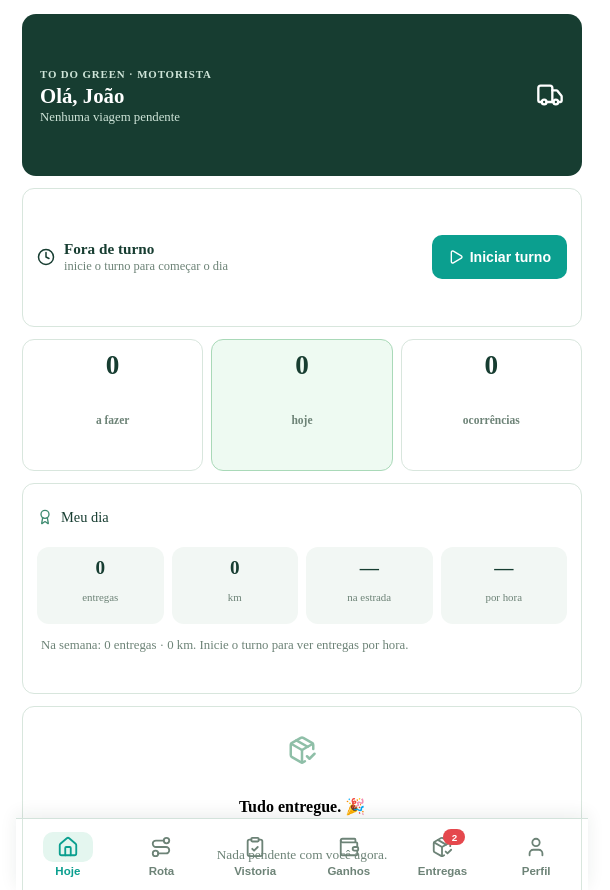
app do motorista — score › no perfil, mostra a nota derivada das entregas
expect the heading "Olá, João" is shown: met, box [40,84,124,108]
Click the button "Perfil": (536, 854) [490,825,582,884]
(page scrolled)
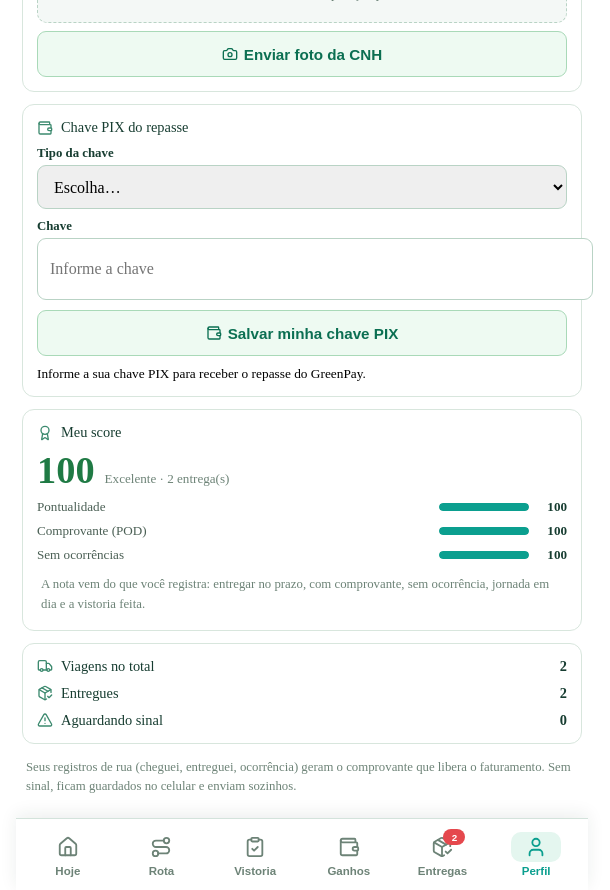
expect the text "Meu score" is shown: met, box [61,424,121,440]
expect the text "100" next to "Excelente" is shown: met, box [37,449,95,491]
